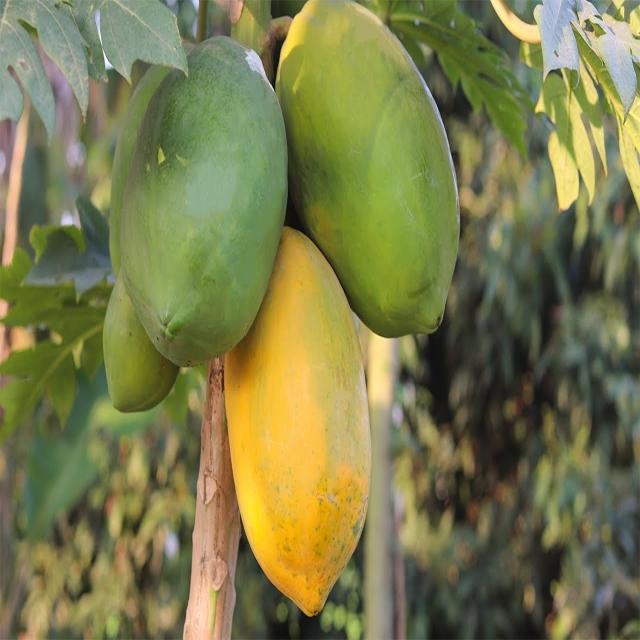Pepaya rippen: (289, 1, 481, 327), (218, 231, 366, 621)
Pepaya unrippen: (109, 36, 289, 382)
